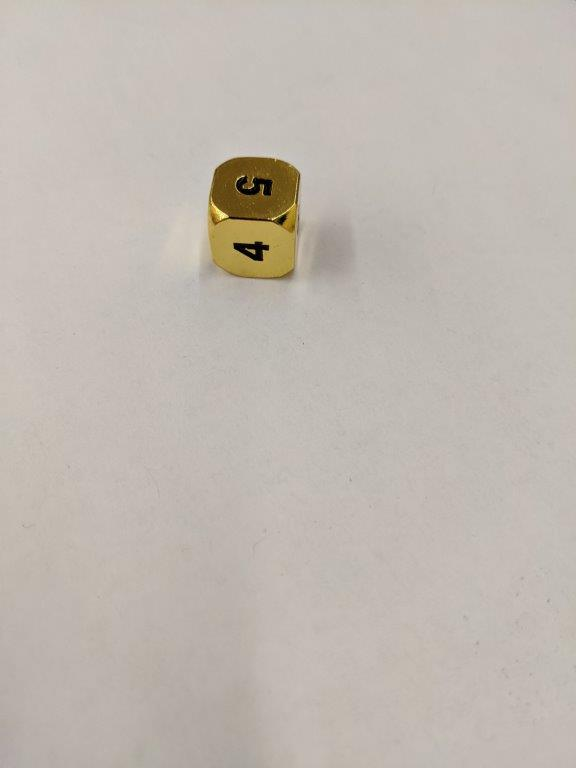d6-5: (206, 156, 302, 280)
